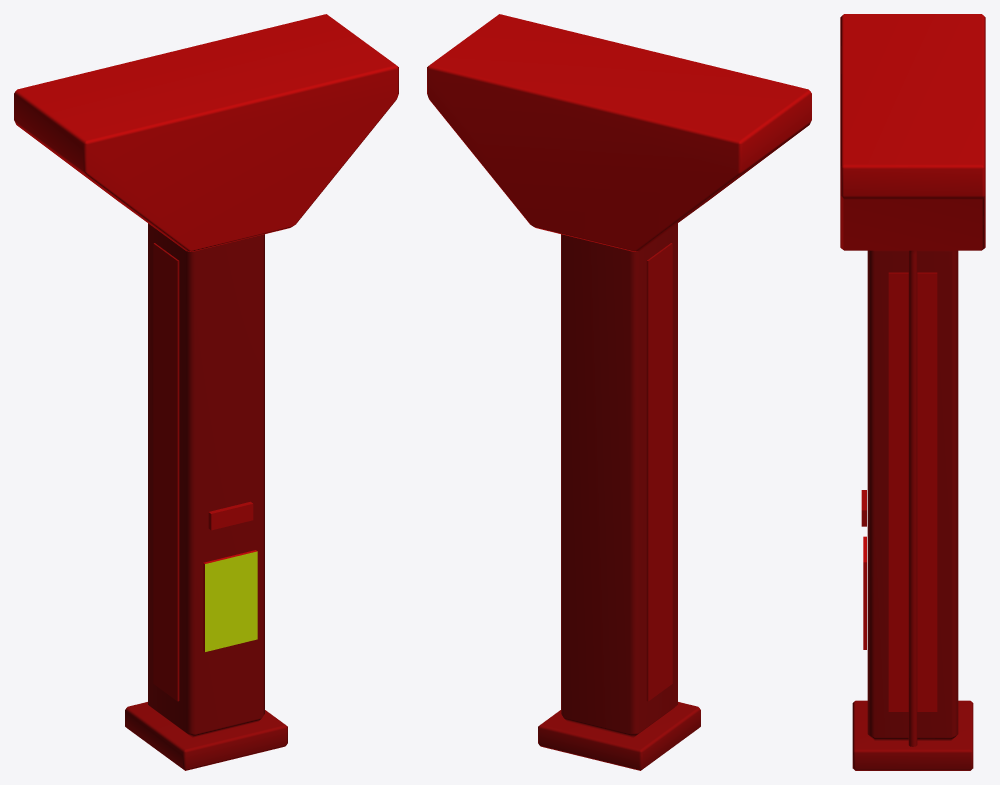
Rendered from rail_pillar.glb.
3 renders of one model, left to right at view 1: azimuth 30°, elevation 25°; view 2: azimuth 150°, elevation 25°; view 3: azimuth 270°, elevation 25°, orthographic.
Parts seen in each view (by area): view 1: rail_pillar; view 2: rail_pillar; view 3: rail_pillar.
Boxes of the visible parts, left/top/right/bottom form: rail_pillar: left=14, top=14, right=398, bottom=770; rail_pillar: left=427, top=14, right=811, bottom=770; rail_pillar: left=840, top=14, right=985, bottom=770.
Bounding box in the file's own units: 6 × 12 × 2.4.
